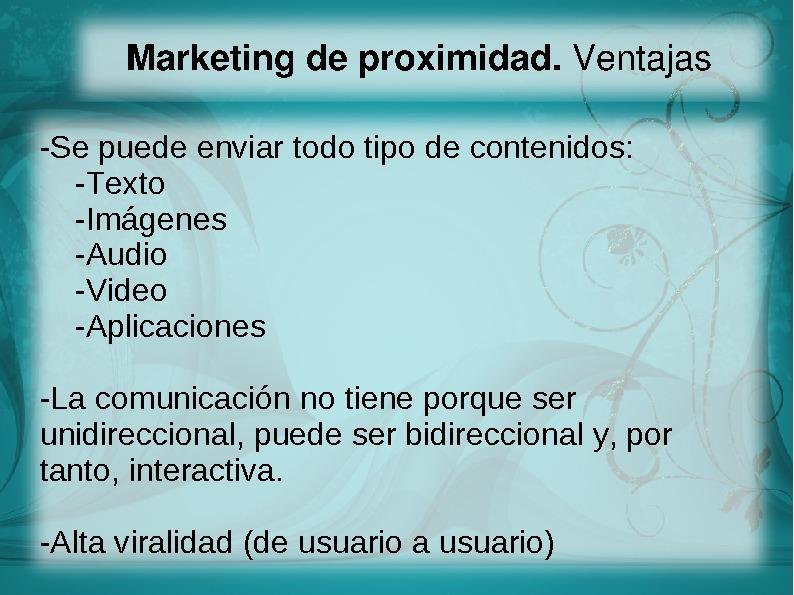paragraph: (33, 120, 720, 569)
title: (117, 32, 715, 92)
